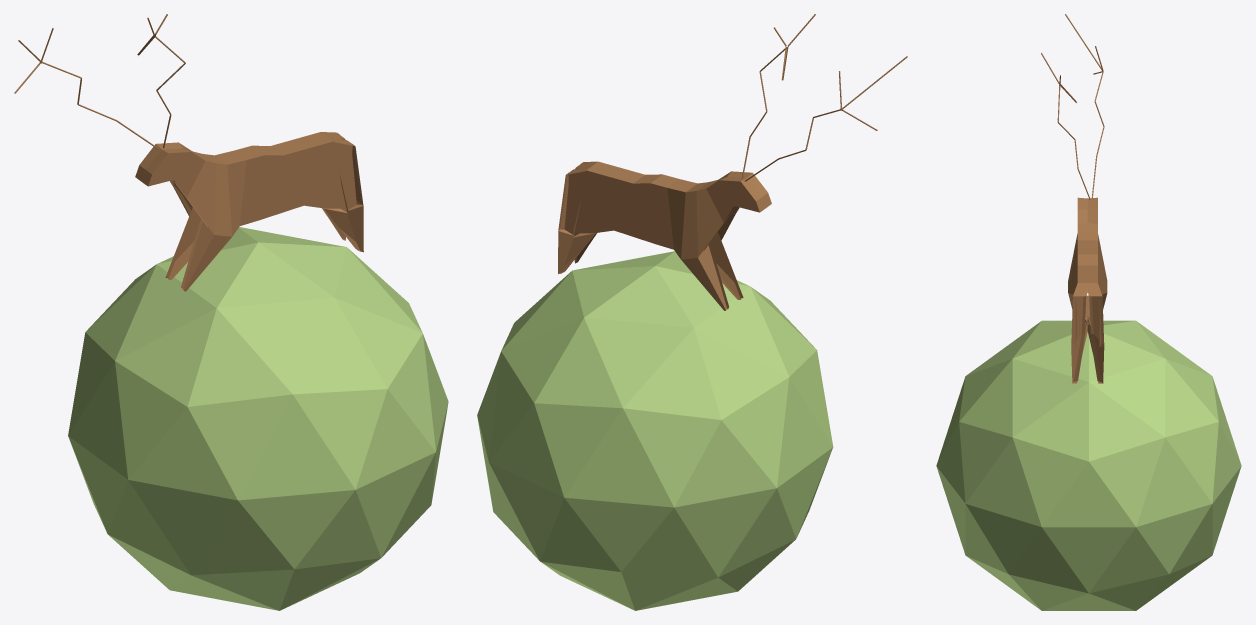
File: deer_01.gltf
The picture shows the model from 3 angles, left to right: view 1: azimuth 30°, elevation 25°; view 2: azimuth 150°, elevation 25°; view 3: azimuth 270°, elevation 25°; orthographic projection. The views are drawn at different scales.
Visible parts, largest first — view 1: Icosphere, Plane.001, Cube; view 2: Icosphere, Plane.001, Cube; view 3: Icosphere, Plane.001, Cube.
Boxes of the visible parts, x1,y1,x2,y2 form: Icosphere: (68,227,448,610); Plane.001: (135,132,363,291); Cube: (14,14,185,149); Icosphere: (477,251,833,610); Plane.001: (558,161,771,310); Cube: (741,14,907,181); Icosphere: (936,320,1241,610); Plane.001: (1068,197,1107,383); Cube: (1041,14,1104,200).
Size of the model in its own units: 10.72 by 15.64 by 8.7.
